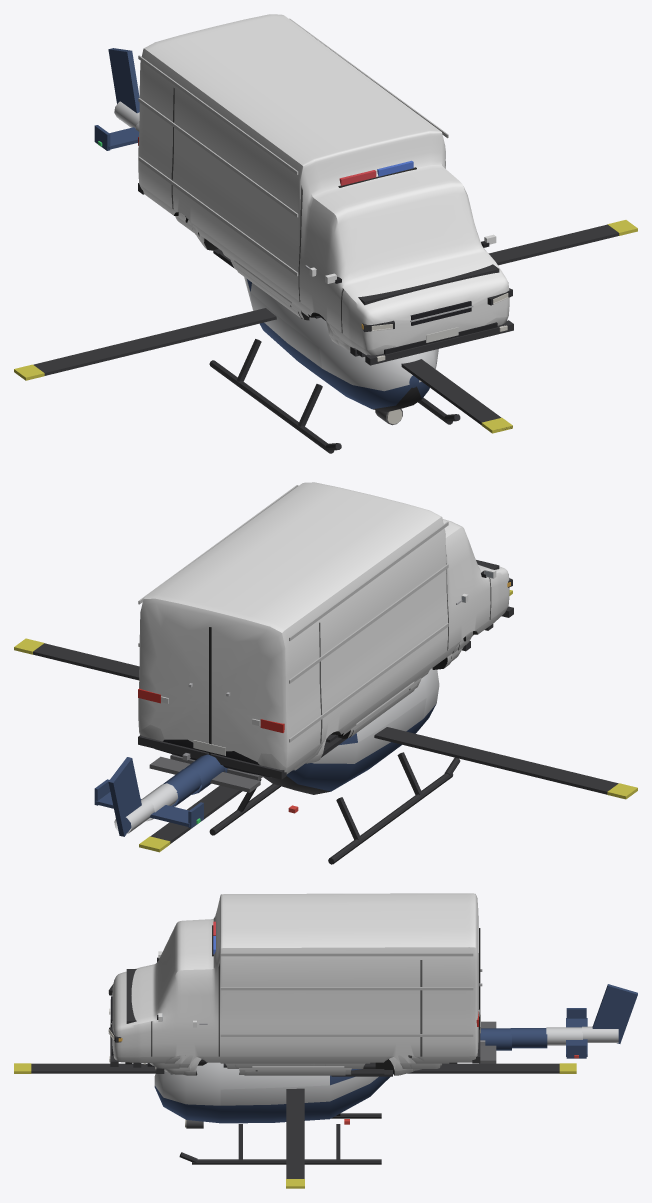
Rendered from cars.glb.
3 views of the same model, one above another, from view 1: azimuth 30°, elevation 25°; view 2: azimuth 150°, elevation 25°; view 3: azimuth 270°, elevation 25° (orthographic). The views are drawn at different scales.
Visible parts, largest first — view 1: truck_body, heli_body, heli_rotor, coupe_body, police_body; view 2: truck_body, heli_body, heli_rotor, coupe_body, police_body; view 3: truck_body, heli_body, heli_rotor, coupe_body, police_body, pickup_body, swat_body, suv_body.
Boxes of the visible parts, left/top/right/bottom form: truck_body: left=138, top=14, right=513, bottom=365; heli_body: left=94, top=48, right=460, bottom=453; heli_rotor: left=14, top=220, right=637, bottom=433; coupe_body: left=196, top=234, right=340, bottom=345; police_body: left=195, top=234, right=359, bottom=356; truck_body: left=138, top=482, right=513, bottom=792; heli_body: left=94, top=668, right=460, bottom=864; heli_rotor: left=14, top=590, right=637, bottom=852; coupe_body: left=305, top=654, right=454, bottom=763; police_body: left=306, top=641, right=470, bottom=762; truck_body: left=108, top=893, right=496, bottom=1066; heli_body: left=154, top=984, right=637, bottom=1164; heli_rotor: left=14, top=1063, right=576, bottom=1188; coupe_body: left=171, top=1057, right=413, bottom=1076; police_body: left=155, top=1057, right=421, bottom=1075; pickup_body: left=143, top=1055, right=442, bottom=1068; swat_body: left=125, top=925, right=457, bottom=1067; suv_body: left=180, top=1055, right=411, bottom=1068.
Size of the model in its own units: 9.8 by 4.33 by 10.87.
